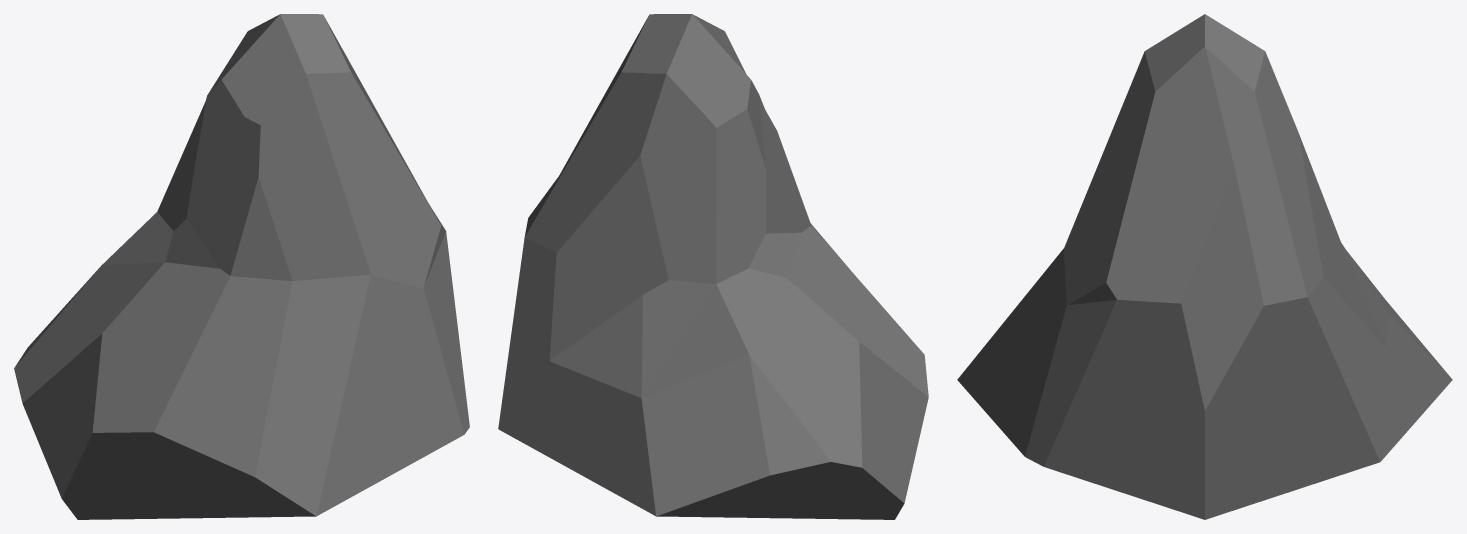
The model's file is Stein_Groß_002.fbx.
3 views of the same model, side by side, from view 1: azimuth 30°, elevation 25°; view 2: azimuth 150°, elevation 25°; view 3: azimuth 270°, elevation 25° (orthographic). The views are drawn at different scales.
Visible parts, largest first — view 1: Stein_Groß_002; view 2: Stein_Groß_002; view 3: Stein_Groß_002.
Boxes of the visible parts, box(x1,y1,x2,y2) form: Stein_Groß_002: box(14, 14, 469, 519); Stein_Groß_002: box(498, 14, 928, 519); Stein_Groß_002: box(957, 14, 1452, 519).
Size of the model in its own units: 199 by 240 by 228.
